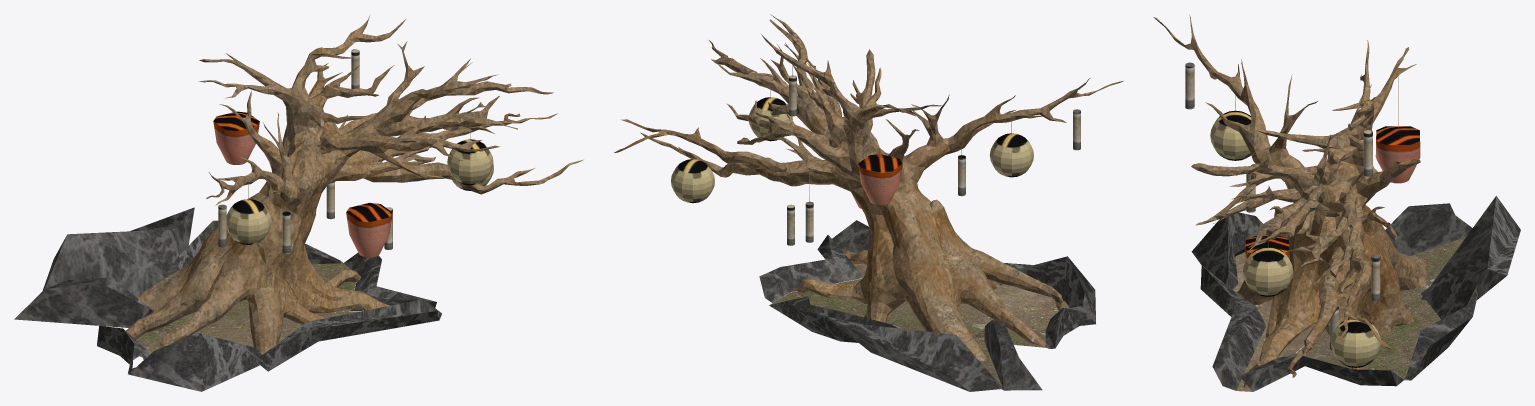
The model's file is lanterntree.glb.
3 renders of one model, left to right at view 1: azimuth 30°, elevation 25°; view 2: azimuth 150°, elevation 25°; view 3: azimuth 270°, elevation 25°, orthographic. The views are drawn at different scales.
Visible parts, largest first — view 1: BIP_Lanterntree_2k; view 2: BIP_Lanterntree_2k; view 3: BIP_Lanterntree_2k.
Boxes of the visible parts, box(x1,y1,x2,y2) form: BIP_Lanterntree_2k: box(14, 16, 583, 391); BIP_Lanterntree_2k: box(614, 14, 1123, 391); BIP_Lanterntree_2k: box(1153, 14, 1520, 391).
Bounding box in the file's own units: 24.16 × 11.91 × 14.24.
Materials: 1 (1 with a texture image).
